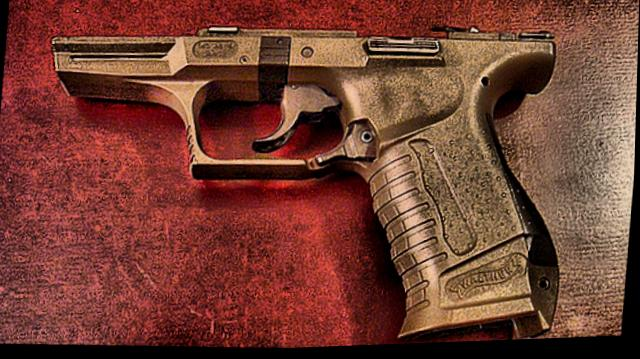pistol: (24, 2, 580, 358)
